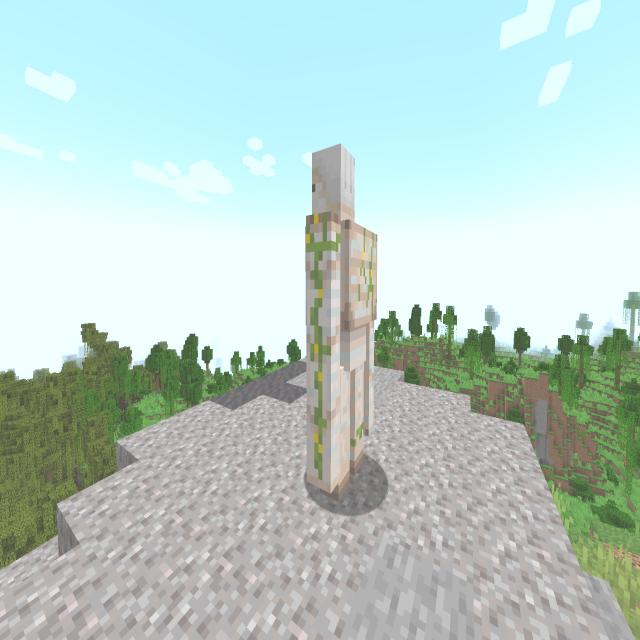iron golem: (294, 132, 388, 514)
